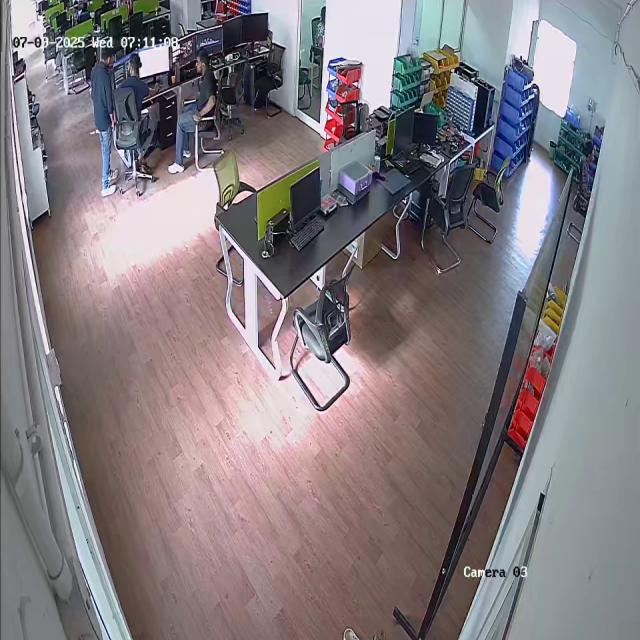person: (80, 40, 118, 203), (169, 47, 211, 169)
